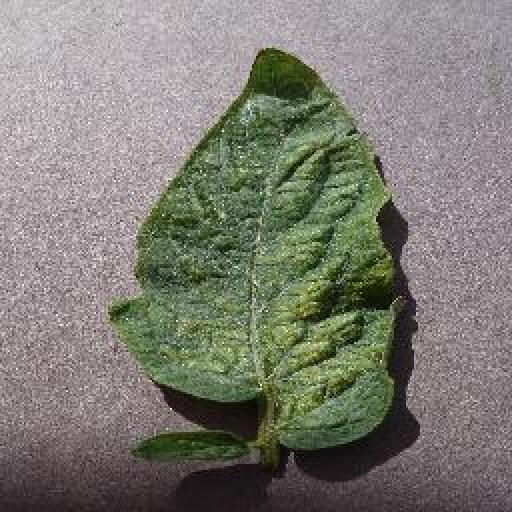disease_tomato: (104, 45, 407, 455)
